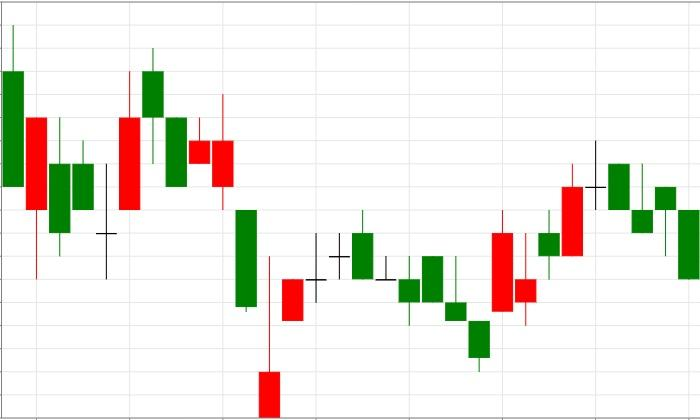inverse_hammer_rise: (142, 47, 280, 418)
